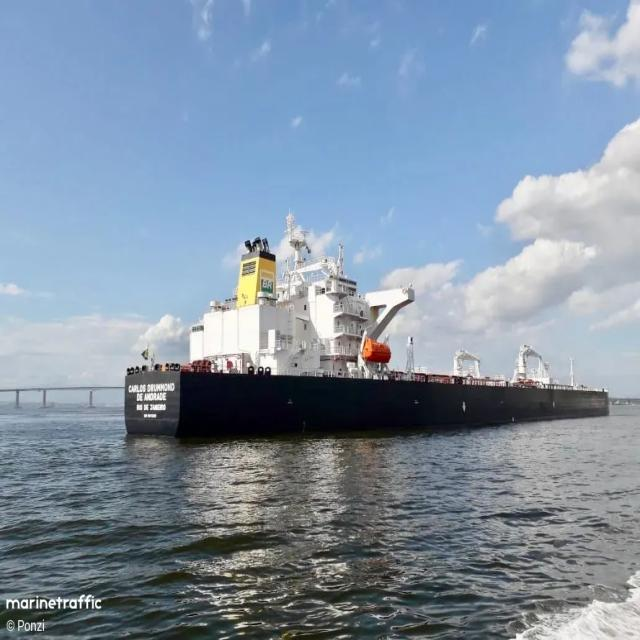Tanker: (125, 214, 609, 437)
